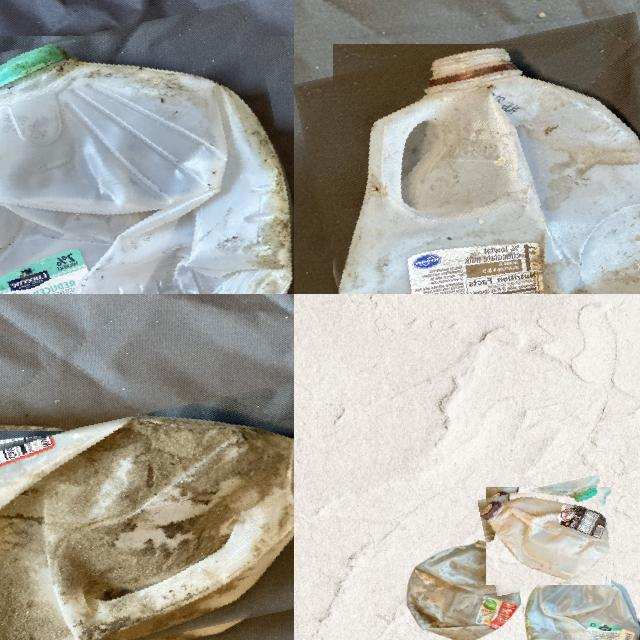milk-jug: (312, 28, 640, 294), (0, 18, 294, 294), (0, 404, 294, 640), (480, 481, 614, 591), (401, 532, 520, 640), (523, 556, 640, 640)
